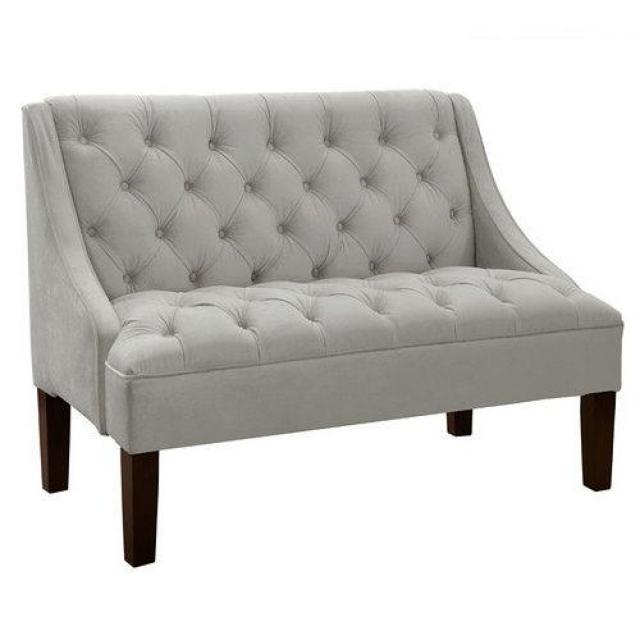sofa: (21, 85, 629, 572)
